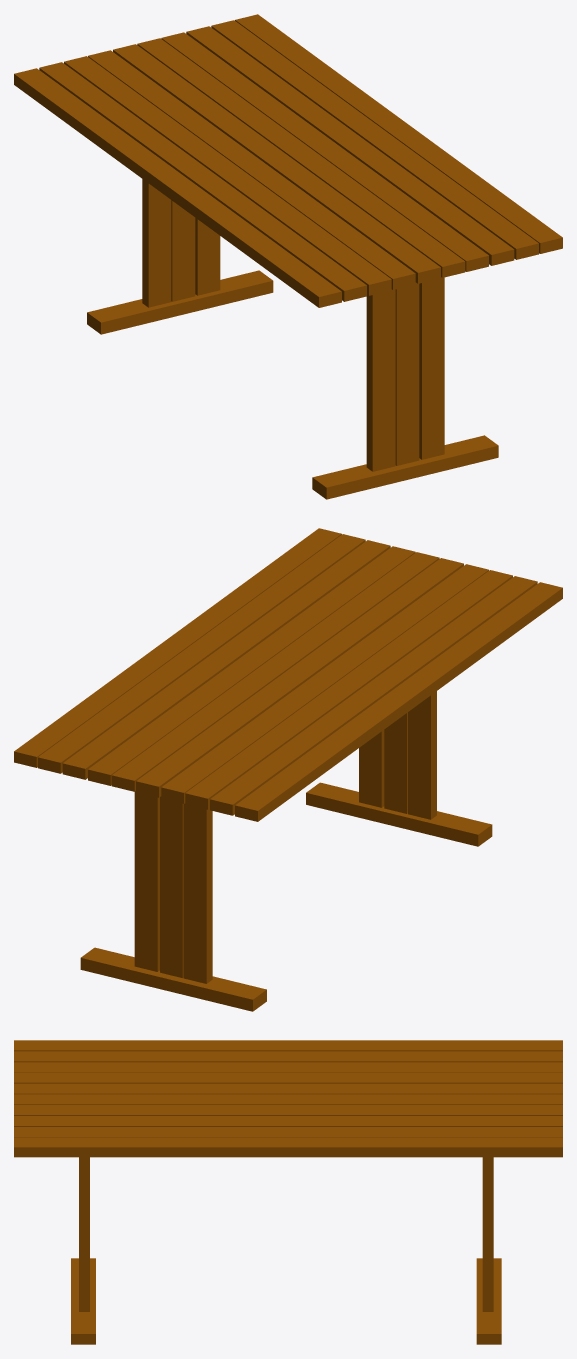
The model's file is table1.fbx.
3 views of the same model, one above another, from view 1: azimuth 30°, elevation 25°; view 2: azimuth 150°, elevation 25°; view 3: azimuth 270°, elevation 25° (orthographic). The views are drawn at different scales.
Parts seen in each view (by area): view 1: Table; view 2: Table; view 3: Table.
Part boxes in pixels (x1,y1,x2,y2): Table: [14, 14, 562, 499]; Table: [14, 528, 562, 1011]; Table: [14, 1040, 562, 1344].
Bounding box in the file's own units: 376 × 347 × 815.
